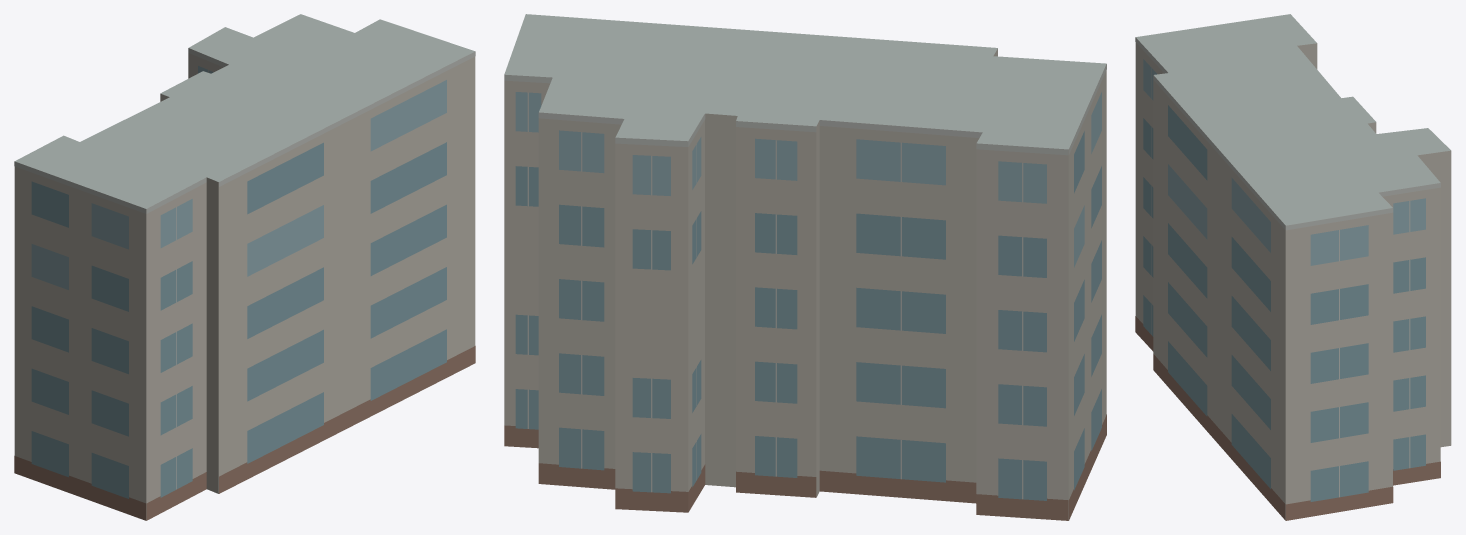
The model's file is survey-upis-32768470.glb.
3 renders of one model, left to right at view 1: azimuth 30°, elevation 25°; view 2: azimuth 150°, elevation 25°; view 3: azimuth 270°, elevation 25°, orthographic. The views are drawn at different scales.
Visible parts, largest first — view 1: survey-upis-32768470.tmp; view 2: survey-upis-32768470.tmp; view 3: survey-upis-32768470.tmp.
Boxes of the visible parts, x1,y1,x2,y2 form: survey-upis-32768470.tmp: (14, 14, 475, 520); survey-upis-32768470.tmp: (504, 14, 1106, 520); survey-upis-32768470.tmp: (1135, 14, 1451, 520).
Bounding box in the file's own units: 23.47 × 15.25 × 14.8.
